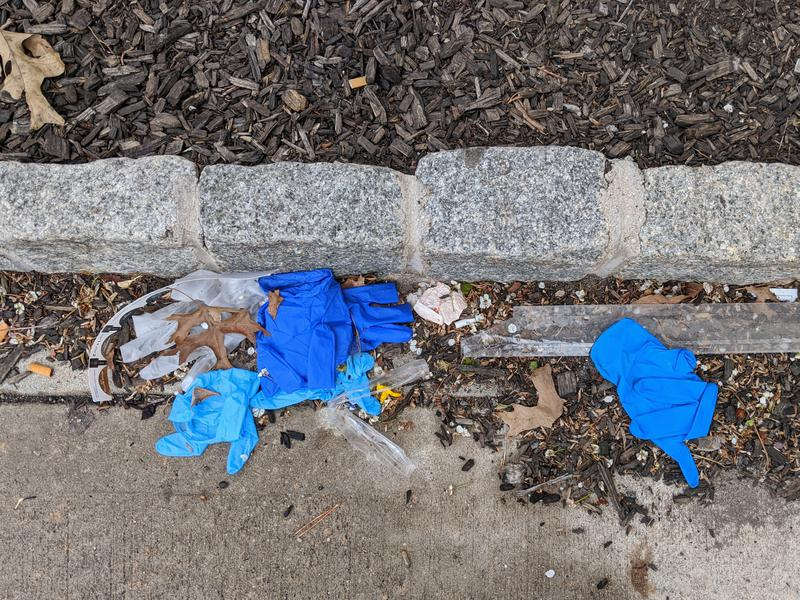gloves: (582, 319, 734, 492), (104, 273, 259, 374), (149, 364, 268, 476), (255, 273, 352, 387), (339, 279, 424, 353)
leaf: (1, 14, 69, 134), (164, 303, 271, 370)
